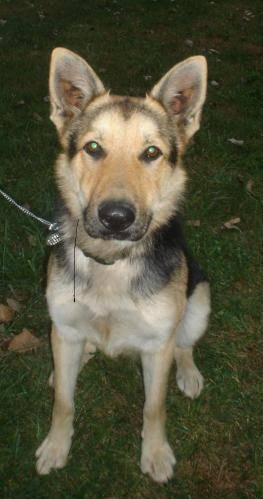dog: (35, 47, 210, 481)
